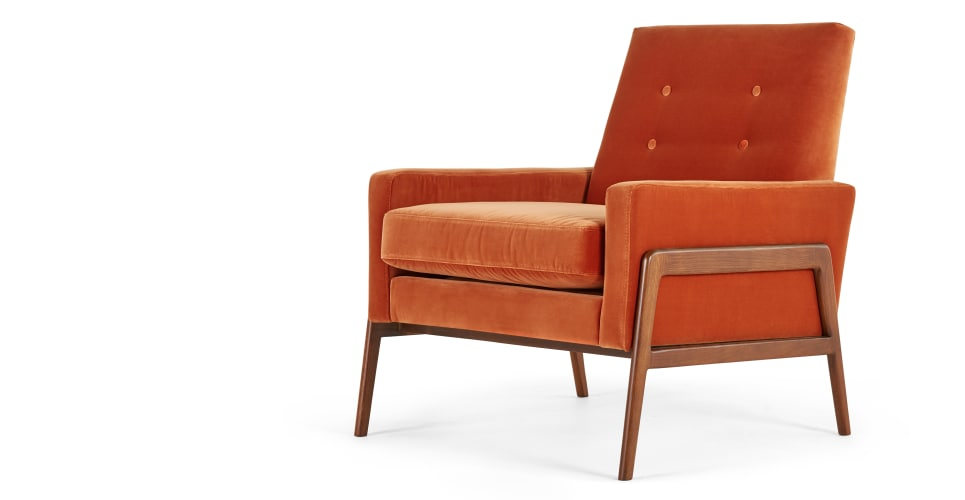chairs: (334, 17, 870, 465)
